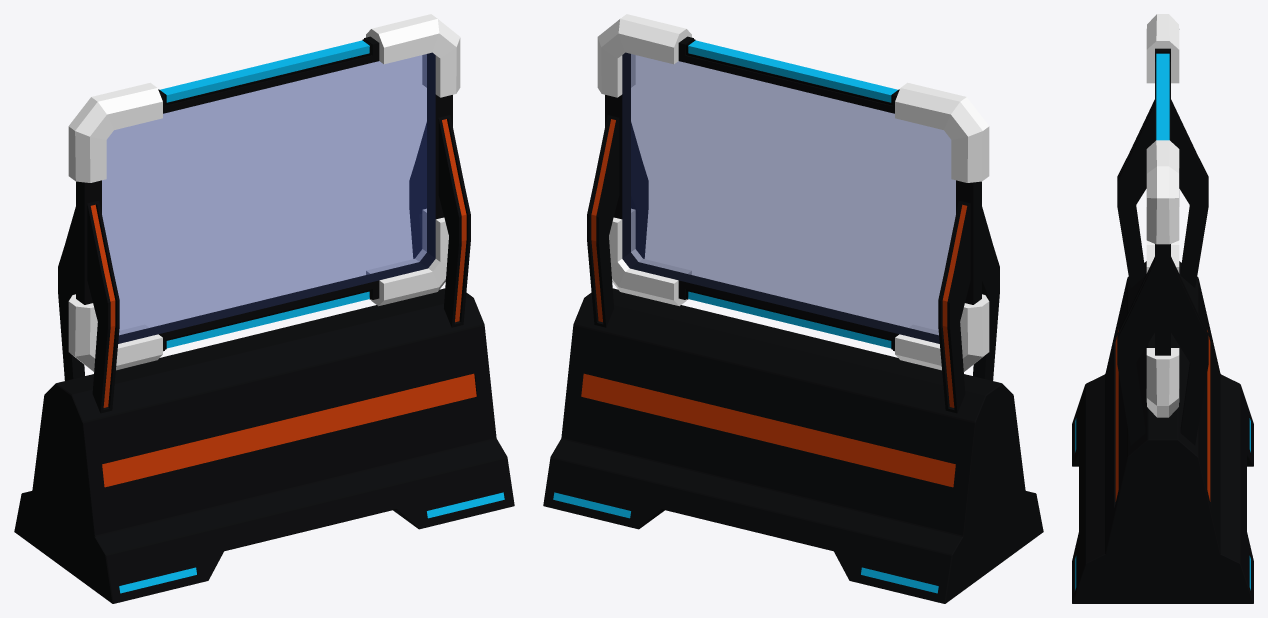
Rendered from SM_Defense_ShieldBarrier.obj.
3 views of the same model, side by side, from view 1: azimuth 30°, elevation 25°; view 2: azimuth 150°, elevation 25°; view 3: azimuth 270°, elevation 25° (orthographic). The views are drawn at different scales.
Parts seen in each view (by area): view 1: SM_Defense_ShieldBarrier; view 2: SM_Defense_ShieldBarrier; view 3: SM_Defense_ShieldBarrier.
Boxes of the visible parts, left/top/right/bottom form: SM_Defense_ShieldBarrier: left=14, top=14, right=514, bottom=603; SM_Defense_ShieldBarrier: left=543, top=14, right=1043, bottom=603; SM_Defense_ShieldBarrier: left=1072, top=14, right=1253, bottom=603.
Bounding box in the file's own units: 1 × 1.1 × 0.4264.
